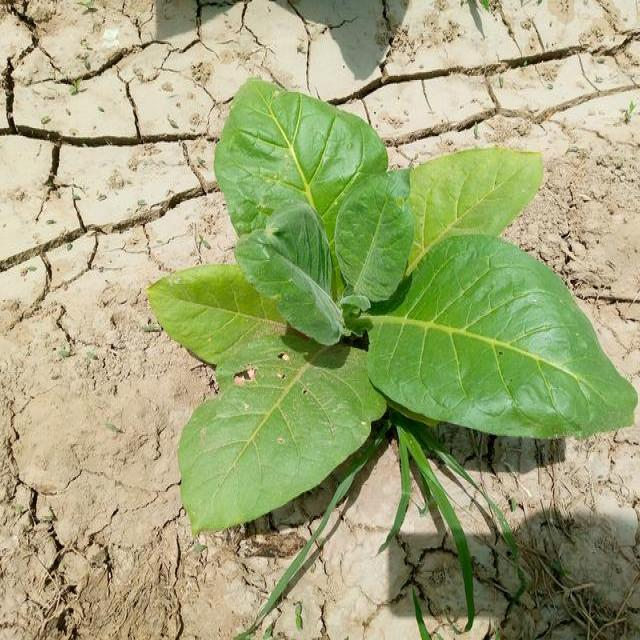crop: (163, 92, 640, 517)
